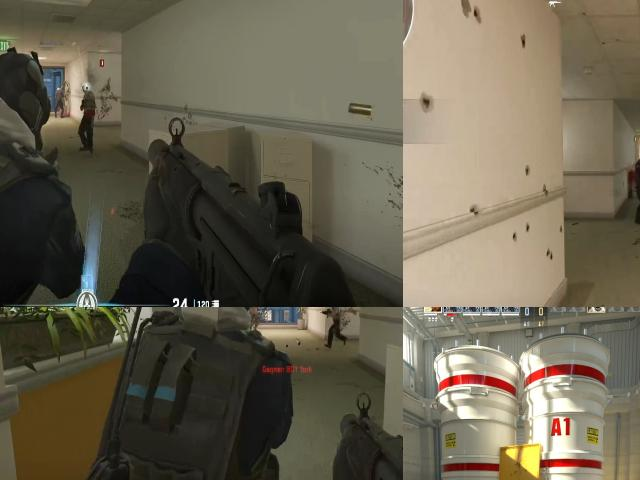CT: (86, 315, 299, 480), (633, 151, 640, 206)
CT-Head: (0, 93, 67, 267), (0, 43, 60, 158), (156, 307, 275, 349)
T: (323, 307, 346, 349)
